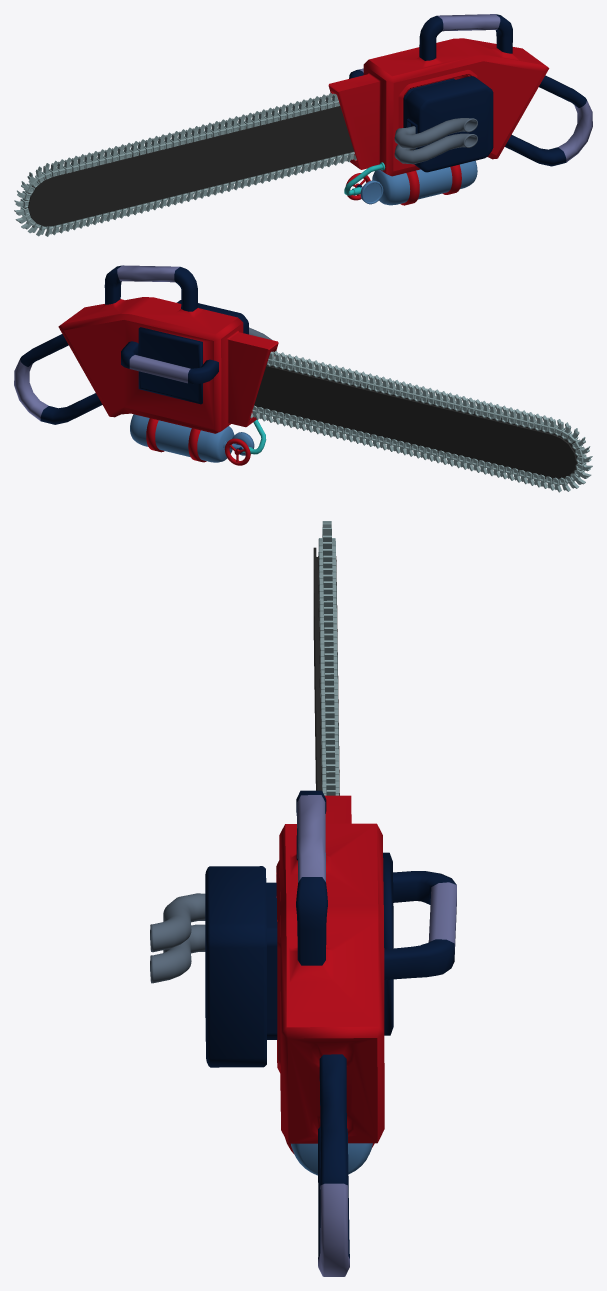
The model's file is FULL SAW .fbx.
The picture shows the model from 3 angles, top to bottom: view 1: azimuth 30°, elevation 25°; view 2: azimuth 150°, elevation 25°; view 3: azimuth 270°, elevation 25°; orthographic projection. The views are drawn at different scales.
Visible parts, largest first — view 1: Cube; view 2: Cube; view 3: Cube.
Boxes of the visible parts, x1,y1,x2,y2 form: Cube: (14,14,592,236); Cube: (14,265,592,492); Cube: (150,521,456,1276).
Size of the model in its own units: 549 by 165 by 127.
